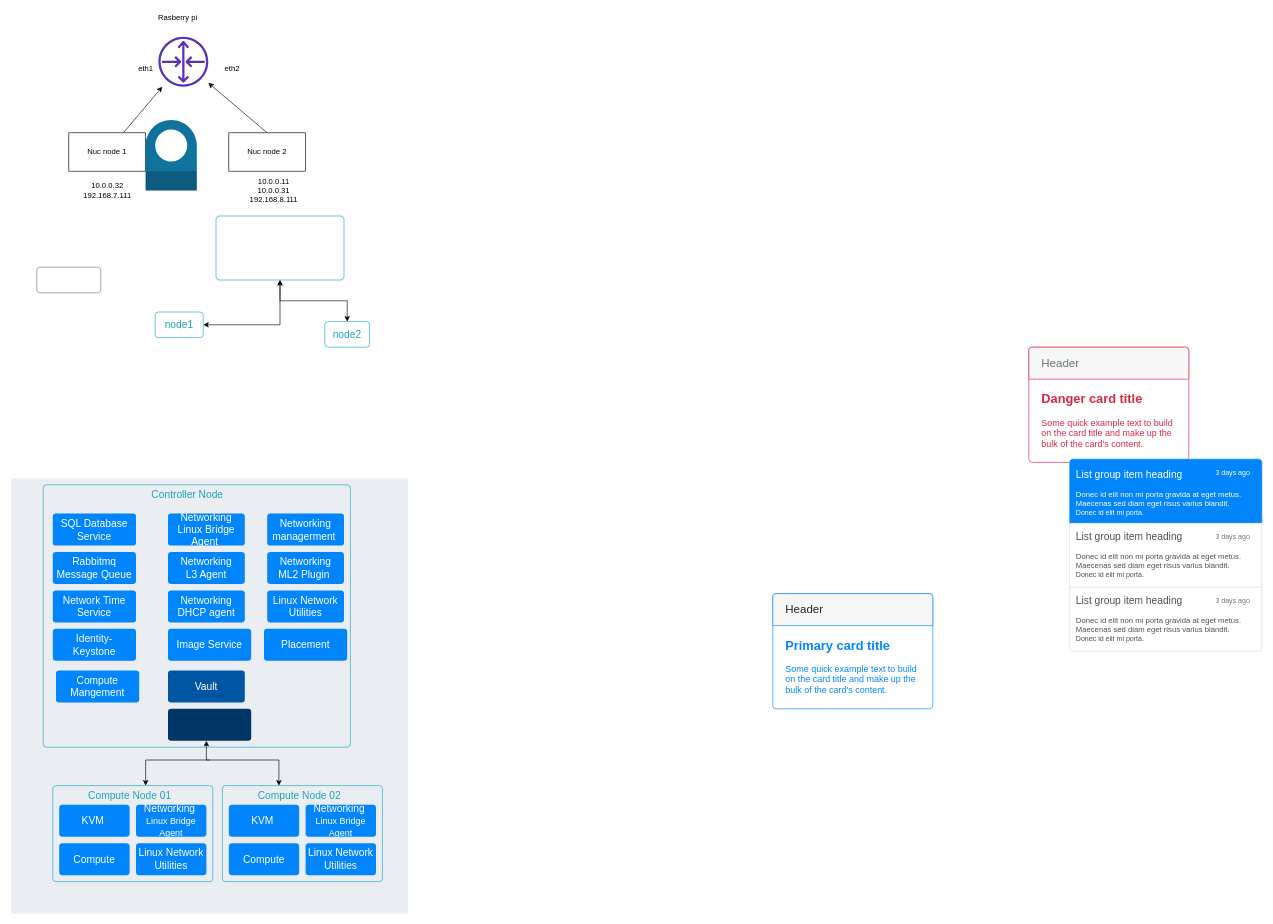
Image size: 1273x924. Some labels were removed from this diagram. Here are the shapes that lost their labels. From the top down, the centre of each, then its label:
At [170,155]: "Label".
At [68,280]: "Secondary".
At [209,724]: "OvS Switch".
